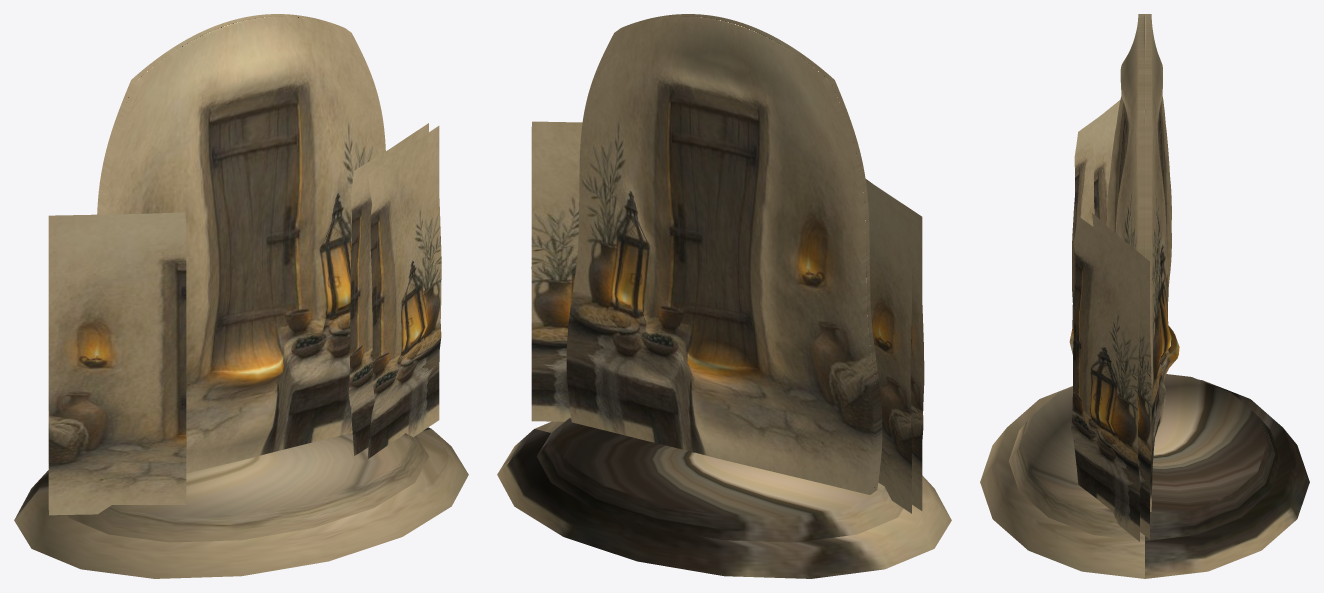
Rendered from all-things-new-8.glb.
3 views of the same model, side by side, from view 1: azimuth 30°, elevation 25°; view 2: azimuth 150°, elevation 25°; view 3: azimuth 270°, elevation 25° (orthographic). The views are drawn at different scales.
Visible parts, largest first — view 1: PaintingSculptureMonument; view 2: PaintingSculptureMonument; view 3: PaintingSculptureMonument.
Boxes of the visible parts, bbox=[...] form: PaintingSculptureMonument: bbox=[14, 14, 468, 578]; PaintingSculptureMonument: bbox=[497, 14, 951, 578]; PaintingSculptureMonument: bbox=[980, 14, 1309, 578].
Size of the model in its own units: 2.76 by 2.99 by 1.99.
Materials: 1 (1 with a texture image).
